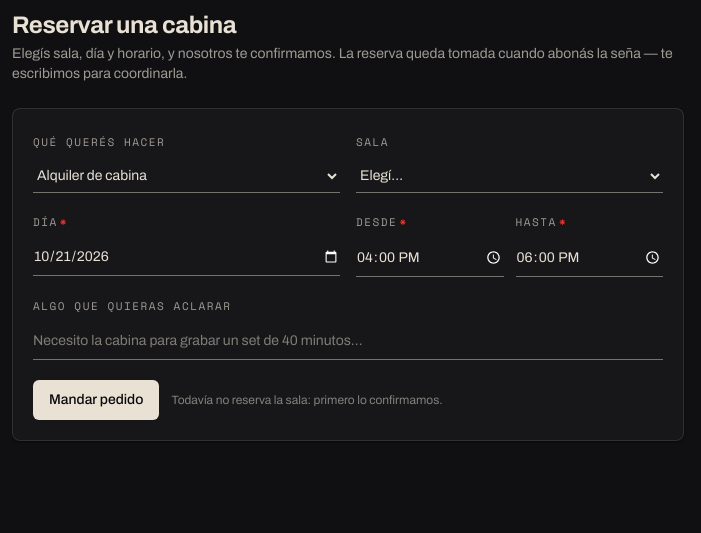
Test: la disponibilidad › avisa cuando el día está libre
Select "Sala 1" in the dropdown labelled "Sala" at point(510, 176), box [356, 159, 663, 193]
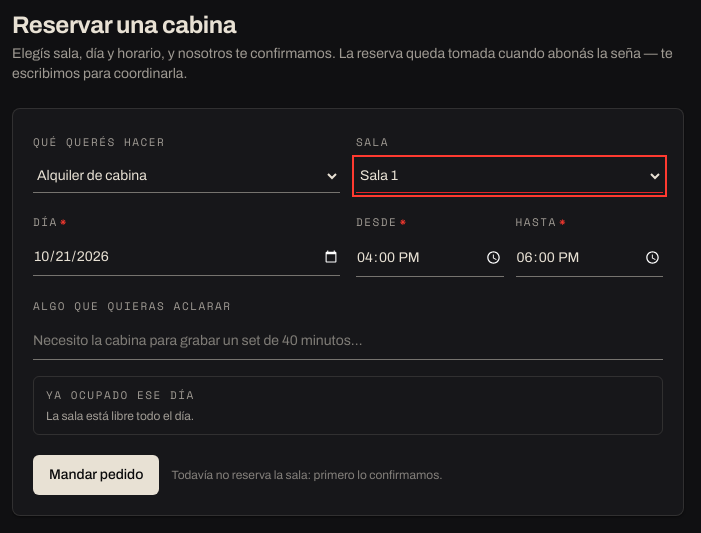
Expected: the text "La sala está libre todo el día." is shown, [46, 409, 194, 423]
